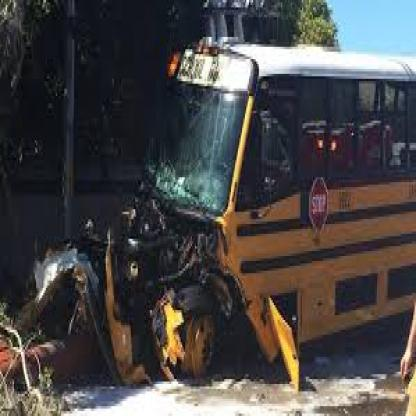accident: (24, 15, 416, 396)
